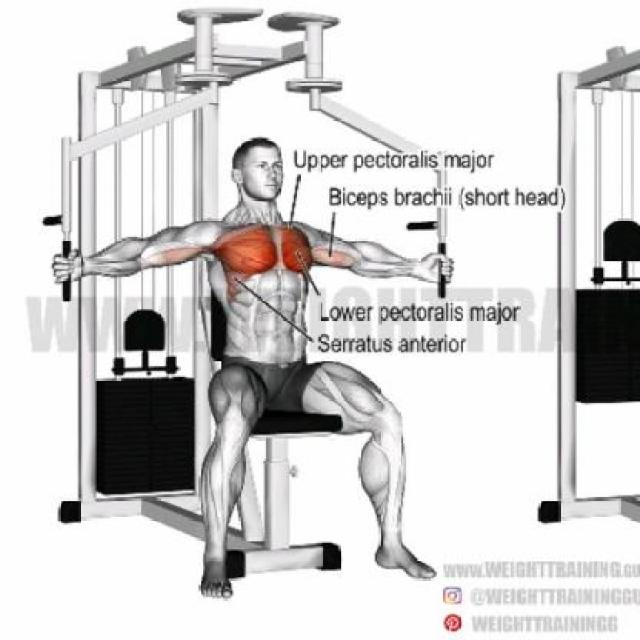chest fly machine: (23, 2, 469, 603)
